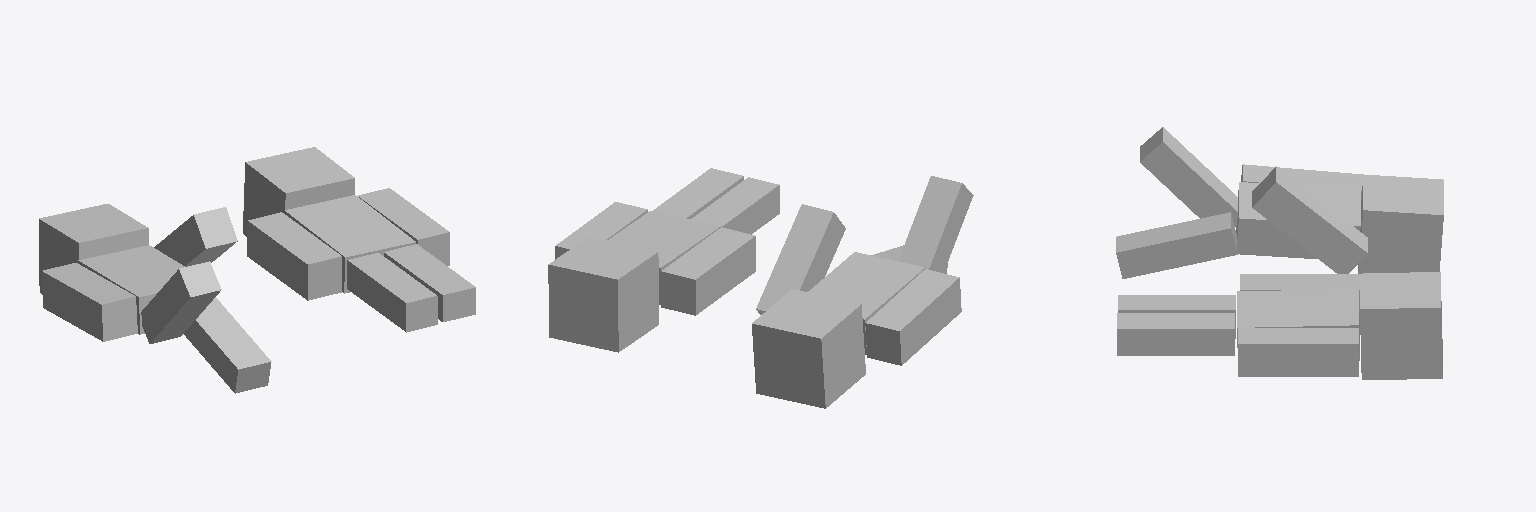
File: steve_000026.obj
The picture shows the model from 3 angles: view 1: azimuth 30°, elevation 25°; view 2: azimuth 150°, elevation 25°; view 3: azimuth 270°, elevation 25°; orthographic projection.
Parts seen in each view (by area): view 1: Cube.001_Cube.002, Cube_Cube.001; view 2: Cube_Cube.001, Cube.001_Cube.002; view 3: Cube_Cube.001, Cube.001_Cube.002.
Part boxes in pixels (x1,y1,x2,y2): Cube.001_Cube.002: (243,147,475,332); Cube_Cube.001: (39,204,271,393); Cube_Cube.001: (752,176,973,408); Cube.001_Cube.002: (548,168,779,352); Cube_Cube.001: (1116,127,1443,278); Cube.001_Cube.002: (1117,272,1442,379).
Size of the model in its own units: 6.55 by 2.29 by 5.38.